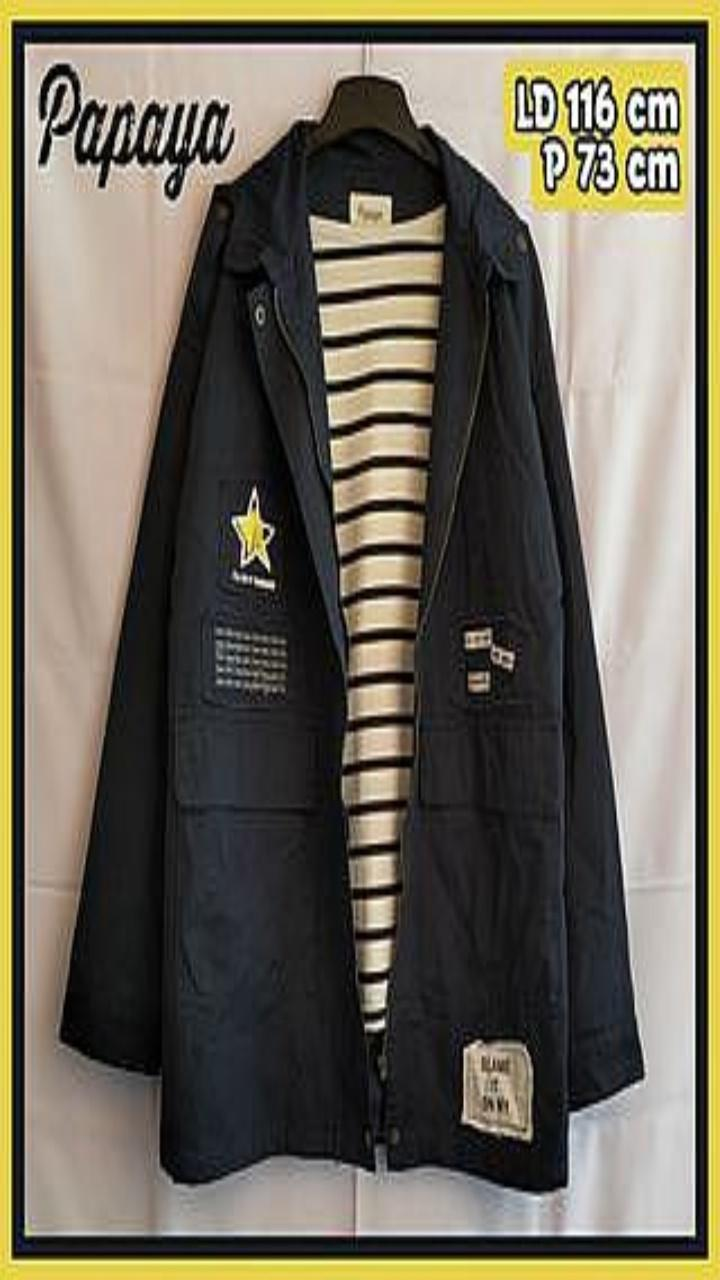Sports_Jacket: (60, 119, 643, 1190)
